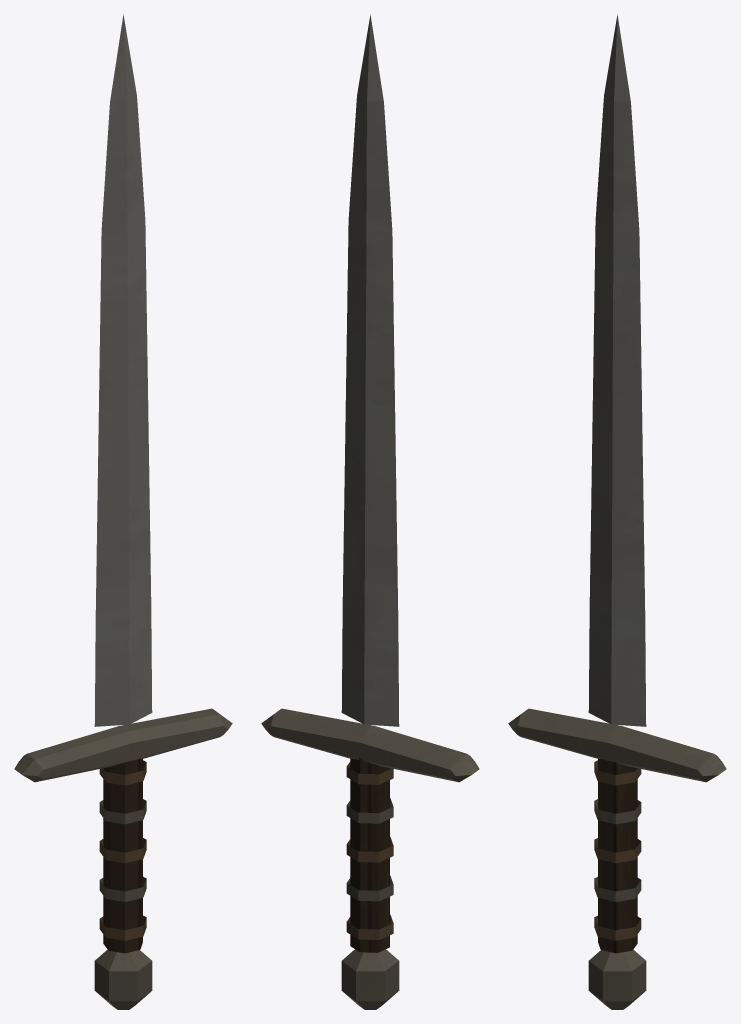
The model's file is wpn_sword_common.glb.
3 views of the same model, side by side, from view 1: azimuth 30°, elevation 25°; view 2: azimuth 150°, elevation 25°; view 3: azimuth 330°, elevation 25° (orthographic).
Parts seen in each view (by area): view 1: wpn_sword_common; view 2: wpn_sword_common; view 3: wpn_sword_common.
Part boxes in pixels (left/top/right/bottom): wpn_sword_common: left=14, top=14, right=232, bottom=1009; wpn_sword_common: left=261, top=14, right=479, bottom=1009; wpn_sword_common: left=508, top=14, right=726, bottom=1009.
Bounding box in the file's own units: 0.25 × 1.12 × 0.0591.
4 materials, 4 textured.
